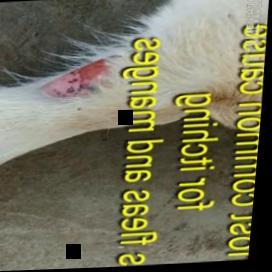skin_lesions: (37, 58, 114, 106)
